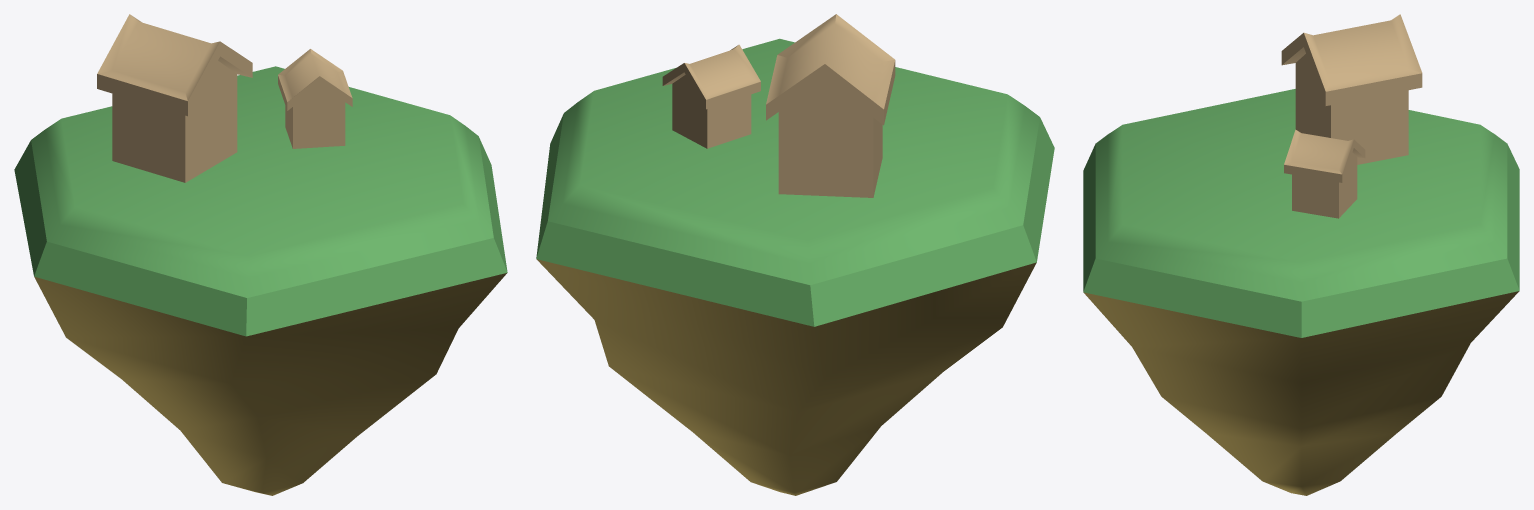
The model's file is Villade_testland.fbx.
3 renders of one model, left to right at view 1: azimuth 30°, elevation 25°; view 2: azimuth 150°, elevation 25°; view 3: azimuth 270°, elevation 25°, orthographic. The views are drawn at different scales.
Parts seen in each view (by area): view 1: iland, pCube1, pCube2; view 2: iland, pCube1, pCube2; view 3: iland, pCube1, pCube2.
Part boxes in pixels (x1,y1,x2,y2): iland: [14, 66, 507, 495]; pCube1: [97, 14, 252, 182]; pCube2: [278, 49, 352, 148]; iland: [536, 38, 1054, 495]; pCube1: [766, 14, 895, 197]; pCube2: [662, 44, 760, 148]; iland: [1083, 89, 1519, 495]; pCube1: [1281, 14, 1422, 164]; pCube2: [1284, 129, 1365, 218].
Bounding box in the file's own units: 10.87 × 10.46 × 9.42.
